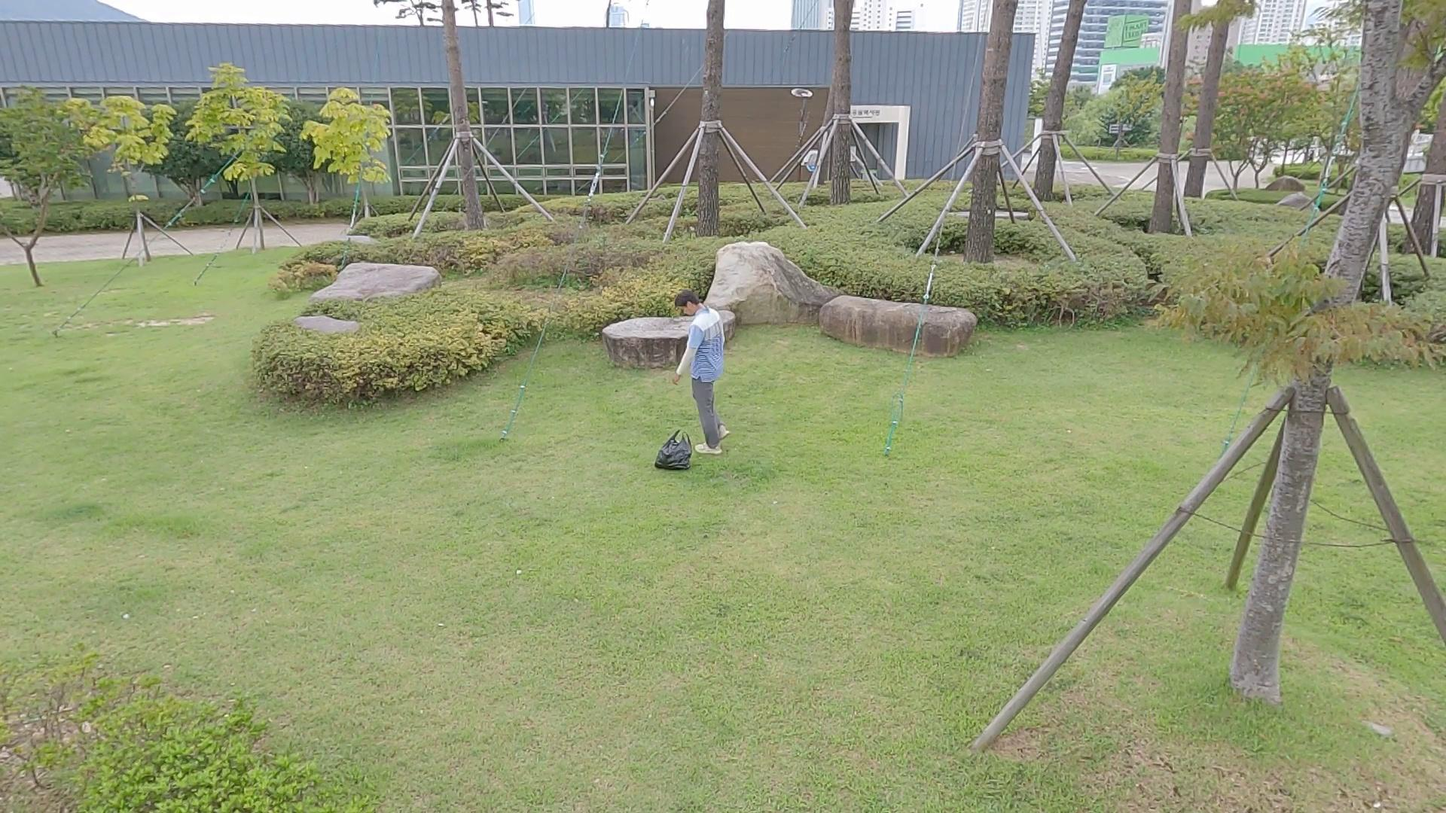person: (663, 286, 739, 468)
trash: (655, 425, 695, 476)
